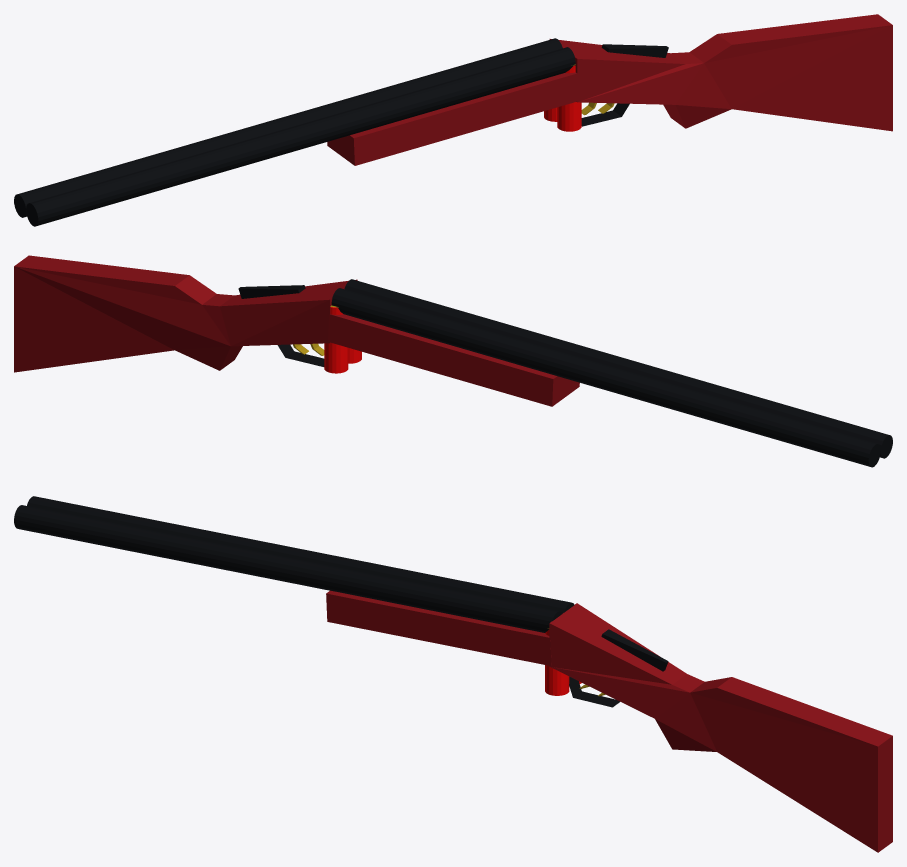
Rendered from double-barreled-shotgun0027.obj.
3 renders of one model, top to bottom at view 1: azimuth 30°, elevation 25°; view 2: azimuth 150°, elevation 25°; view 3: azimuth 330°, elevation 25°, orthographic.
Visible parts, largest first — view 1: rearStock, leftBarrel, foreGrip, rightBarrel, shellPlastic, topLatch, triggerGuard; view 2: rearStock, rightBarrel, foreGrip, leftBarrel, shellPlastic2, topLatch, triggerGuard; view 3: rearStock, leftBarrel, foreGrip, rightBarrel, topLatch.
Boxes of the visible parts, x1,y1,x2,y2 form: rearStock: (549,14,892,131); leftBarrel: (26,47,575,226); foreGrip: (327,72,579,165); rightBarrel: (14,38,562,217); shellPlastic: (557,65,581,131); topLatch: (601,44,668,57); triggerGuard: (581,103,629,126); rearStock: (14,255,357,372); rightBarrel: (331,288,880,467); foreGrip: (328,314,579,406); leftBarrel: (344,279,892,458); shellPlastic2: (324,307,348,373); topLatch: (238,285,305,298); triggerGuard: (277,344,324,366); rearStock: (549,603,892,852); leftBarrel: (14,505,562,632); foreGrip: (326,590,551,666); rightBarrel: (27,496,574,613); topLatch: (601,629,668,671).
Bounding box in the file's own units: 3.7 × 0.6625 × 0.2057.
